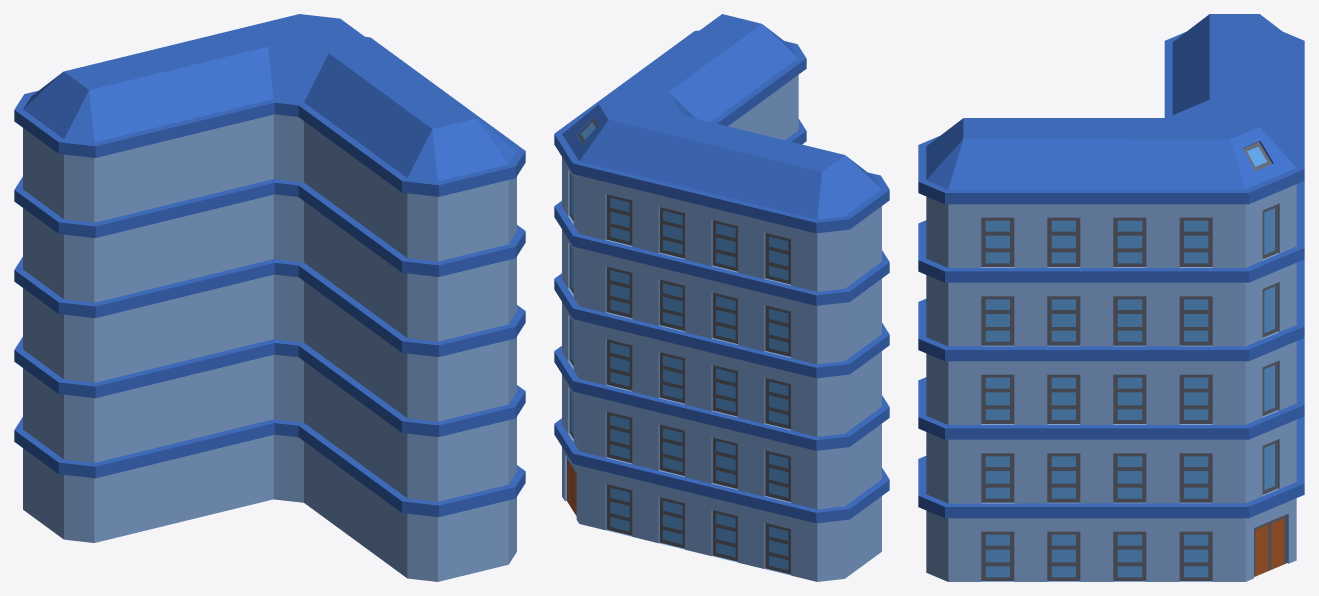
The picture shows the model from 3 angles, left to right: view 1: azimuth 30°, elevation 25°; view 2: azimuth 150°, elevation 25°; view 3: azimuth 270°, elevation 25°; orthographic projection. The views are drawn at different scales.
Visible parts, largest first — view 1: Predio 6.001; view 2: Predio 6.001; view 3: Predio 6.001.
Part boxes in pixels (x1,y1,x2,y2): Predio 6.001: [14, 14, 525, 581]; Predio 6.001: [554, 14, 889, 581]; Predio 6.001: [918, 14, 1304, 581].
Bounding box in the file's own units: 8946 × 10915 × 8946.
